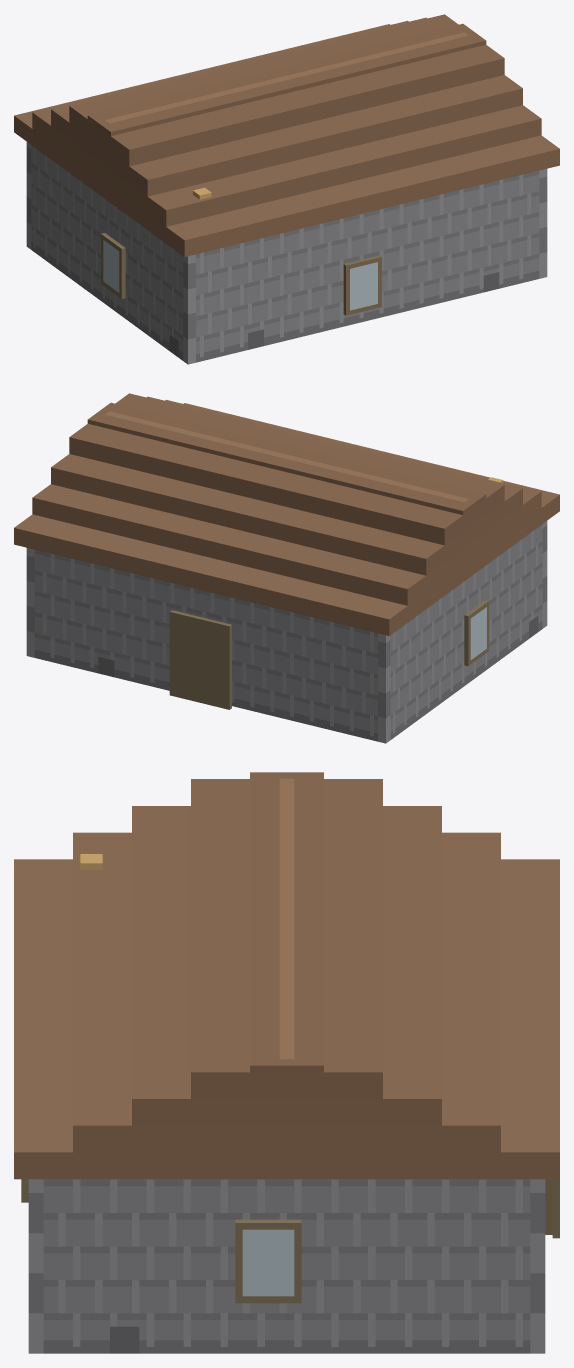
Rendered from herreria_01.glb.
3 renders of one model, top to bottom at view 1: azimuth 30°, elevation 25°; view 2: azimuth 150°, elevation 25°; view 3: azimuth 270°, elevation 25°, orthographic. The views are drawn at different scales.
Parts seen in each view (by area): view 1: herreria_01; view 2: herreria_01; view 3: herreria_01.
Part boxes in pixels (bbox=[...]): herreria_01: bbox=[14, 14, 559, 364]; herreria_01: bbox=[14, 393, 559, 743]; herreria_01: bbox=[14, 772, 559, 1353].
Size of the model in its own units: 9.4 by 4.4 by 7.4.
